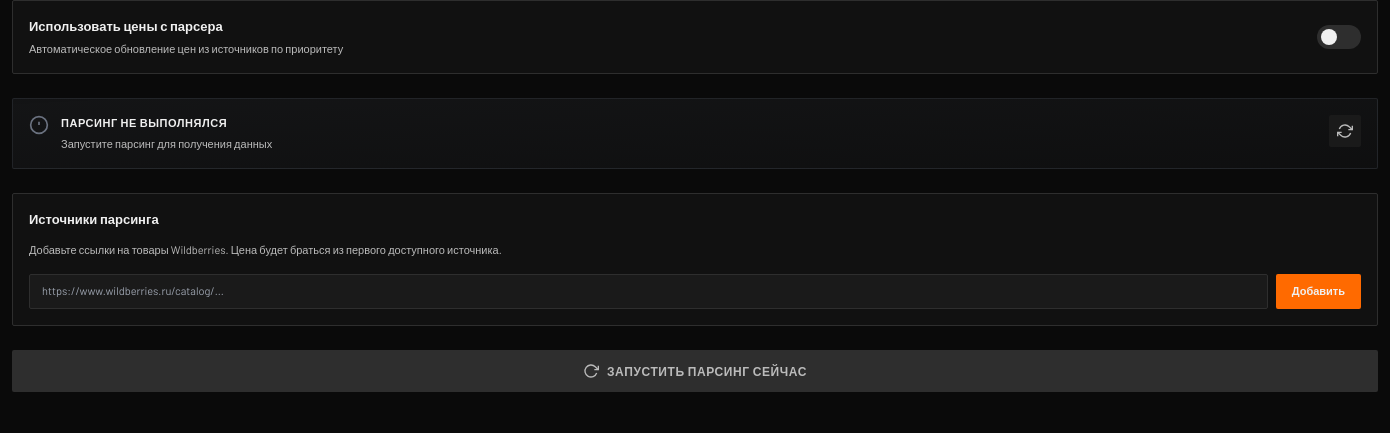
ProductParserConfig › URL validation › должен показать ошибку при невалидном URL
This screenshot has width=1390, height=433.
Type "not-a-url" into the field with placeholder "https://www.wildberries.ru/catalog/...". click: (648, 291)
box: [29, 274, 1268, 308]
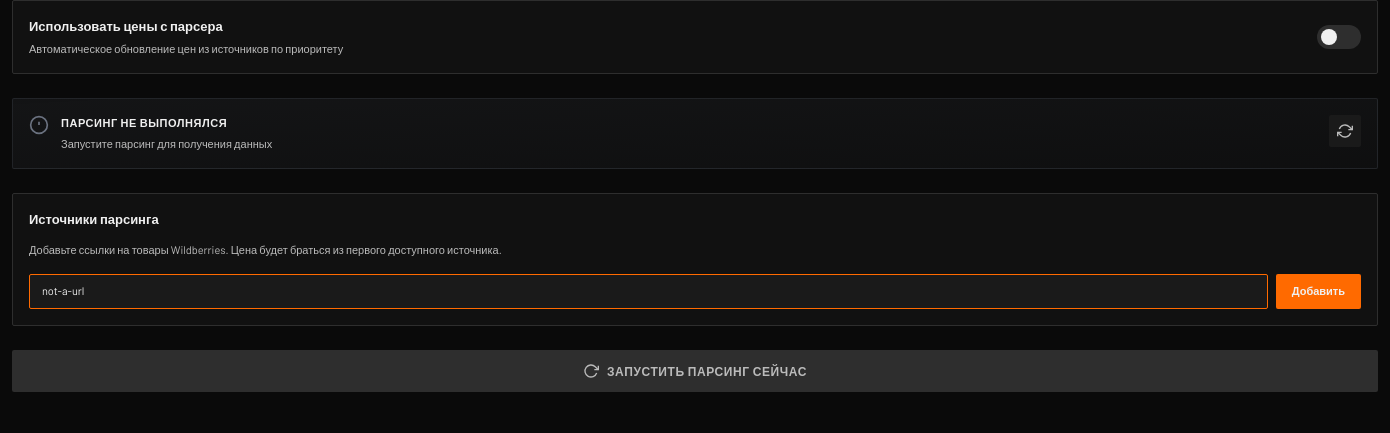
Click the button "Добавить". click: click(1318, 291)
box: [1276, 274, 1361, 308]
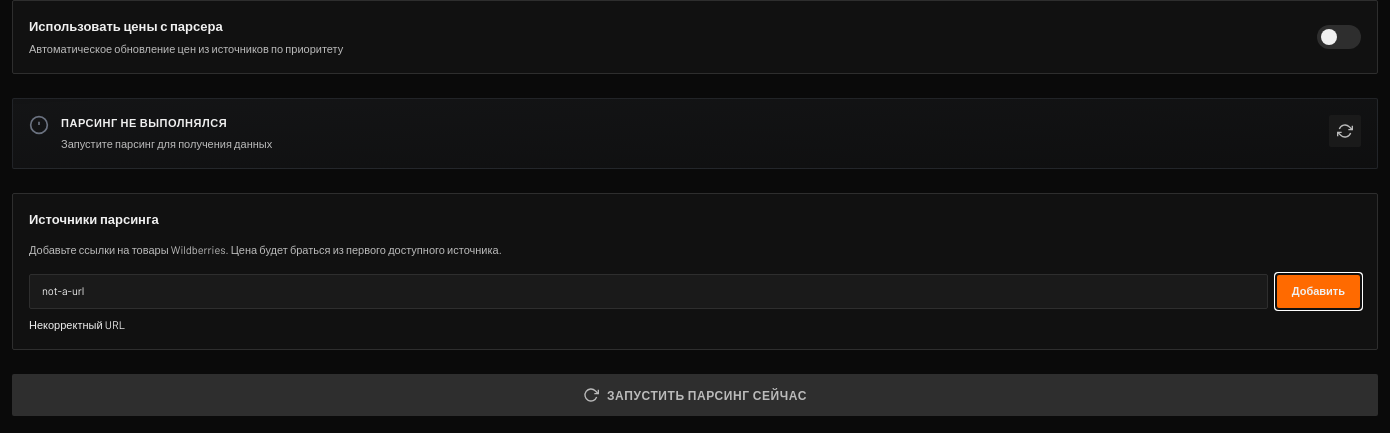
Result: the text "Некорректный URL" is shown at [29, 318, 125, 330]
